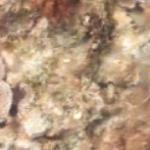alive: (6, 5, 147, 147)
